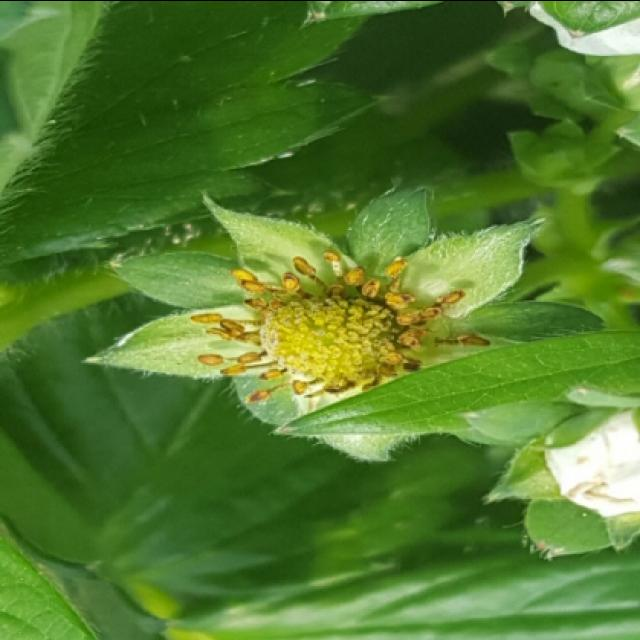Blossom Blight: (188, 244, 492, 409)
